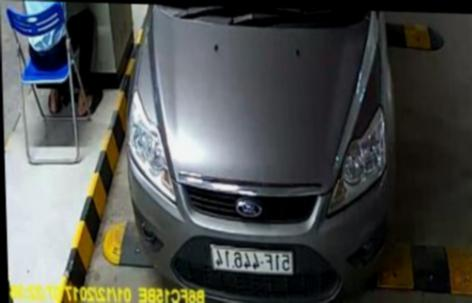License_Plate: (208, 241, 297, 277)
